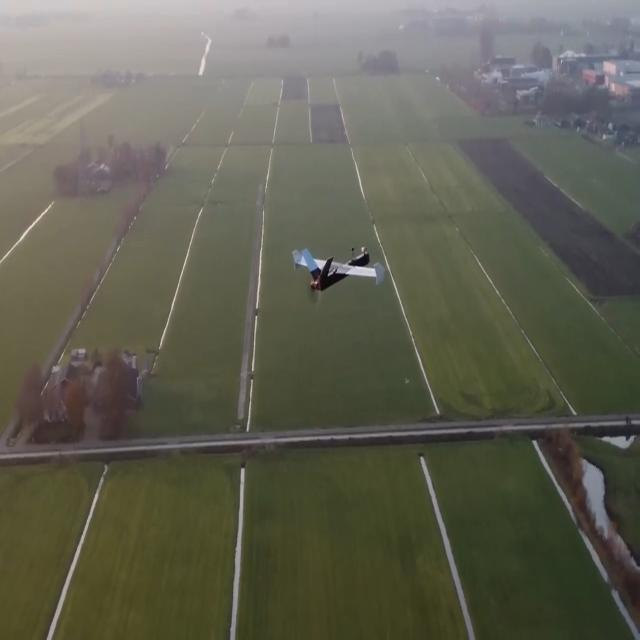iha: (324, 244, 350, 300)
